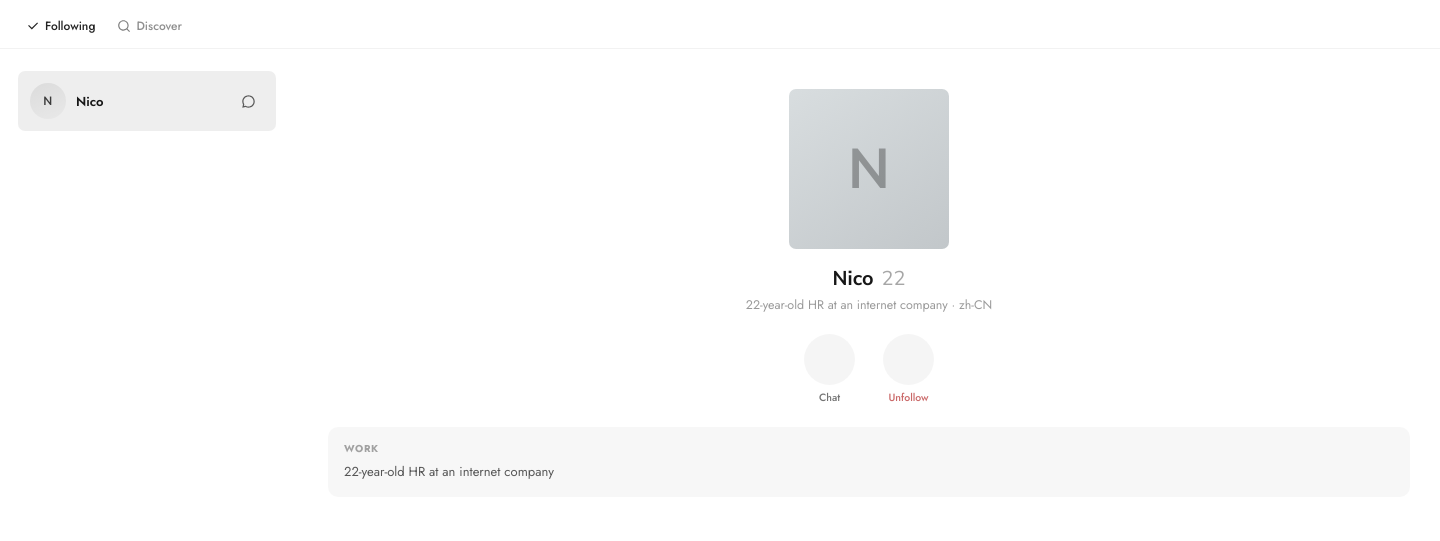
Scenario: CharactersPage › open chat shows store errors inline
This screenshot has width=1440, height=541.
Click the text "Chat": (830, 398) x1=819 y1=390 x2=840 y2=405
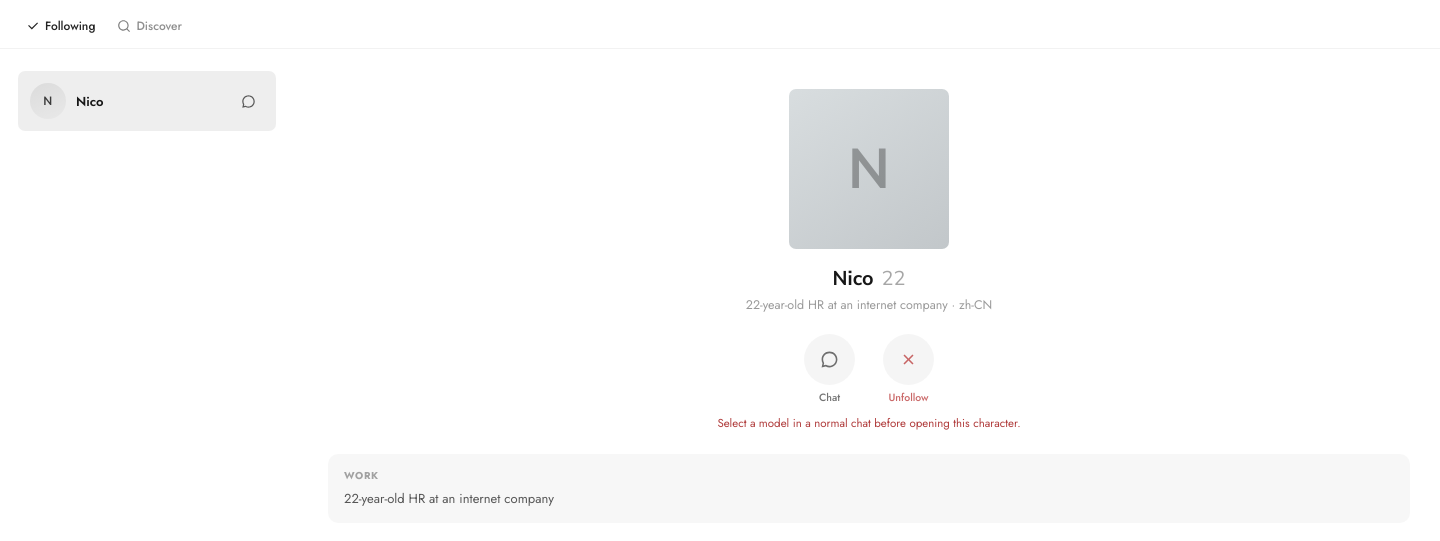
Check: the text "Select a model in a normal chat before opening this character." is shown, box x1=717 y1=415 x2=1021 y2=432
